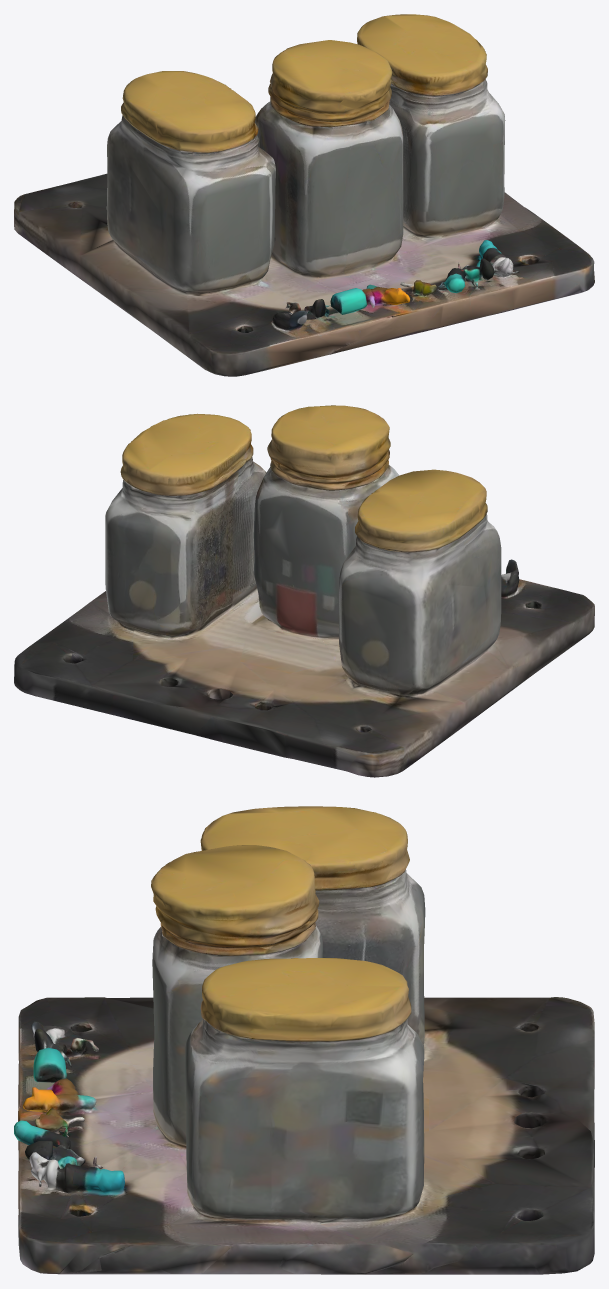
3 views of the same model, one above another, from view 1: azimuth 30°, elevation 25°; view 2: azimuth 150°, elevation 25°; view 3: azimuth 270°, elevation 25° (orthographic). The views are drawn at different scales.
Size of the model in its own units: 2 by 1.05 by 1.98.
1 material, 1 textured.
